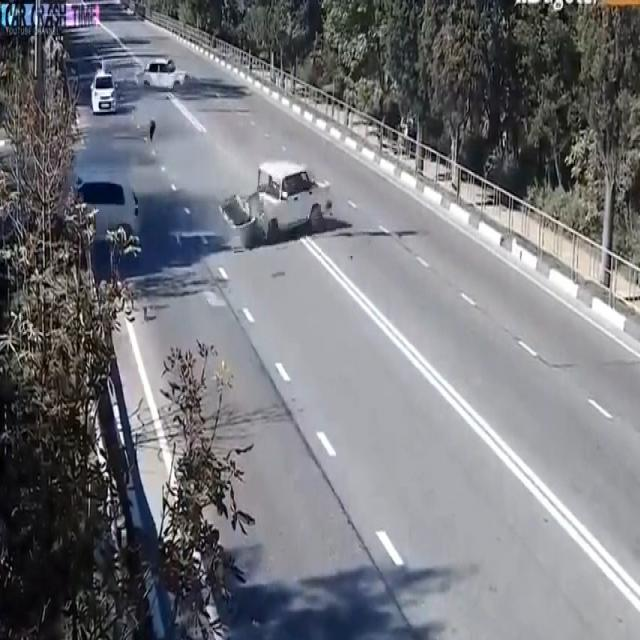Accident: (194, 130, 331, 281), (42, 151, 145, 275)
